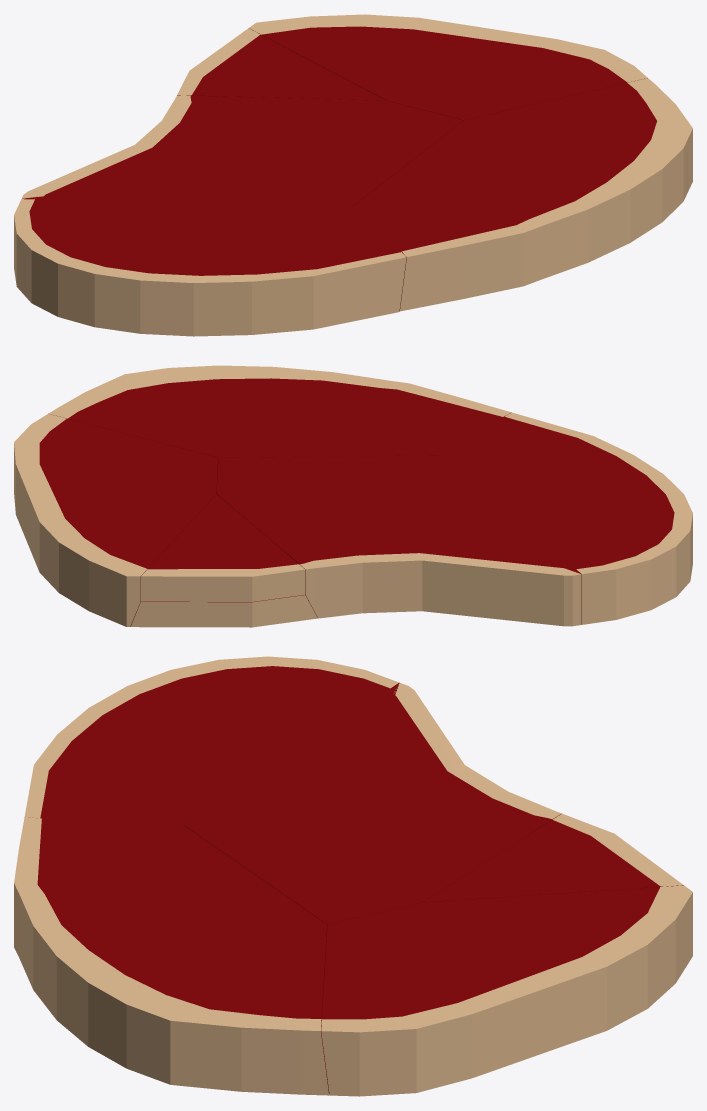
File: steak_uncooked_cut.fbx
3 renders of one model, top to bottom at view 1: azimuth 30°, elevation 25°; view 2: azimuth 150°, elevation 25°; view 3: azimuth 270°, elevation 25°, orthographic. The views are drawn at different scales.
Visible parts, largest first — view 1: Cylinder.001_cell.002, Cylinder.001_cell.004, Cylinder.001_cell.001, Cylinder.001_cell, Cylinder.001_cell.005; view 2: Cylinder.001_cell.001, Cylinder.001_cell.002, Cylinder.001_cell.004, Cylinder.001_cell, Cylinder.001_cell.005, Cylinder.001_cell.003; view 3: Cylinder.001_cell.002, Cylinder.001_cell, Cylinder.001_cell.001, Cylinder.001_cell.004, Cylinder.001_cell.005.
Part boxes in pixels (x1,y1,x2,y2): Cylinder.001_cell.002: (354, 78, 692, 311); Cylinder.001_cell.004: (14, 199, 406, 336); Cylinder.001_cell.001: (21, 95, 463, 205); Cylinder.001_cell: (249, 14, 647, 120); Cylinder.001_cell.005: (177, 28, 385, 100); Cylinder.001_cell.001: (217, 455, 581, 626); Cylinder.001_cell.002: (48, 365, 511, 464); Cylinder.001_cell.004: (437, 412, 692, 624); Cylinder.001_cell: (14, 414, 217, 626); Cylinder.001_cell.005: (141, 494, 305, 601); Cylinder.001_cell.003: (130, 595, 317, 627); Cylinder.001_cell.002: (14, 817, 329, 1095); Cylinder.001_cell: (321, 885, 692, 1096); Cylinder.001_cell.001: (183, 682, 561, 925); Cylinder.001_cell.004: (24, 656, 399, 824); Cylinder.001_cell.005: (423, 813, 683, 902).
Size of the model in its own units: 409 by 32.59 by 313.
